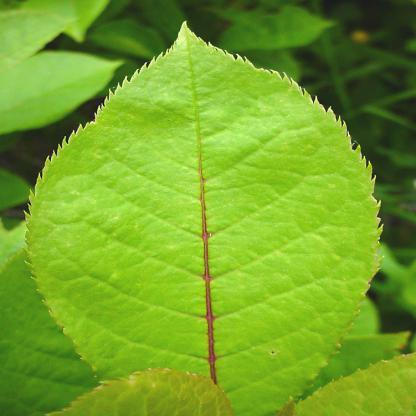cherry leaf: (20, 19, 401, 413)
